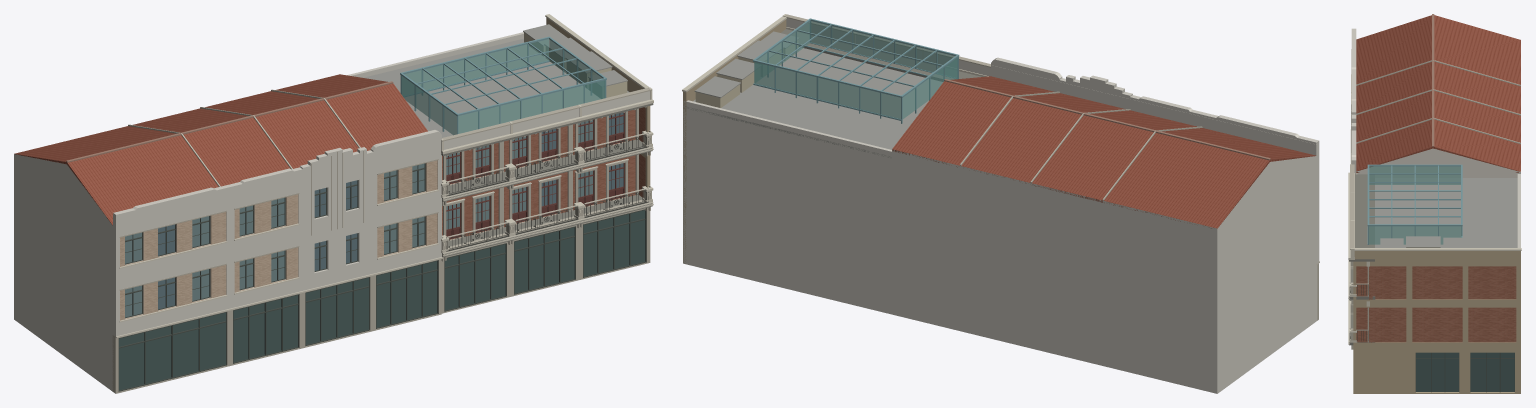
Rendered from hongkou-gongyi-fang-1297-1311-sichuan-road-lod.glb.
The picture shows the model from 3 angles, left to right: view 1: azimuth 30°, elevation 25°; view 2: azimuth 150°, elevation 25°; view 3: azimuth 270°, elevation 25°; orthographic projection. The views are drawn at different scales.
Parts seen in each view (by area): view 1: 公益坊一号楼南北两段商住楼街面; view 2: 公益坊一号楼南北两段商住楼街面; view 3: 公益坊一号楼南北两段商住楼街面.
Part boxes in pixels (x1=…): 公益坊一号楼南北两段商住楼街面: x1=14, y1=14, x2=653, y2=393; 公益坊一号楼南北两段商住楼街面: x1=682, y1=14, x2=1319, y2=393; 公益坊一号楼南北两段商住楼街面: x1=1348, y1=14, x2=1521, y2=393.
Bounding box in the file's own units: 40.13 × 14.1 × 13.54.
19 materials, 3 textured.
